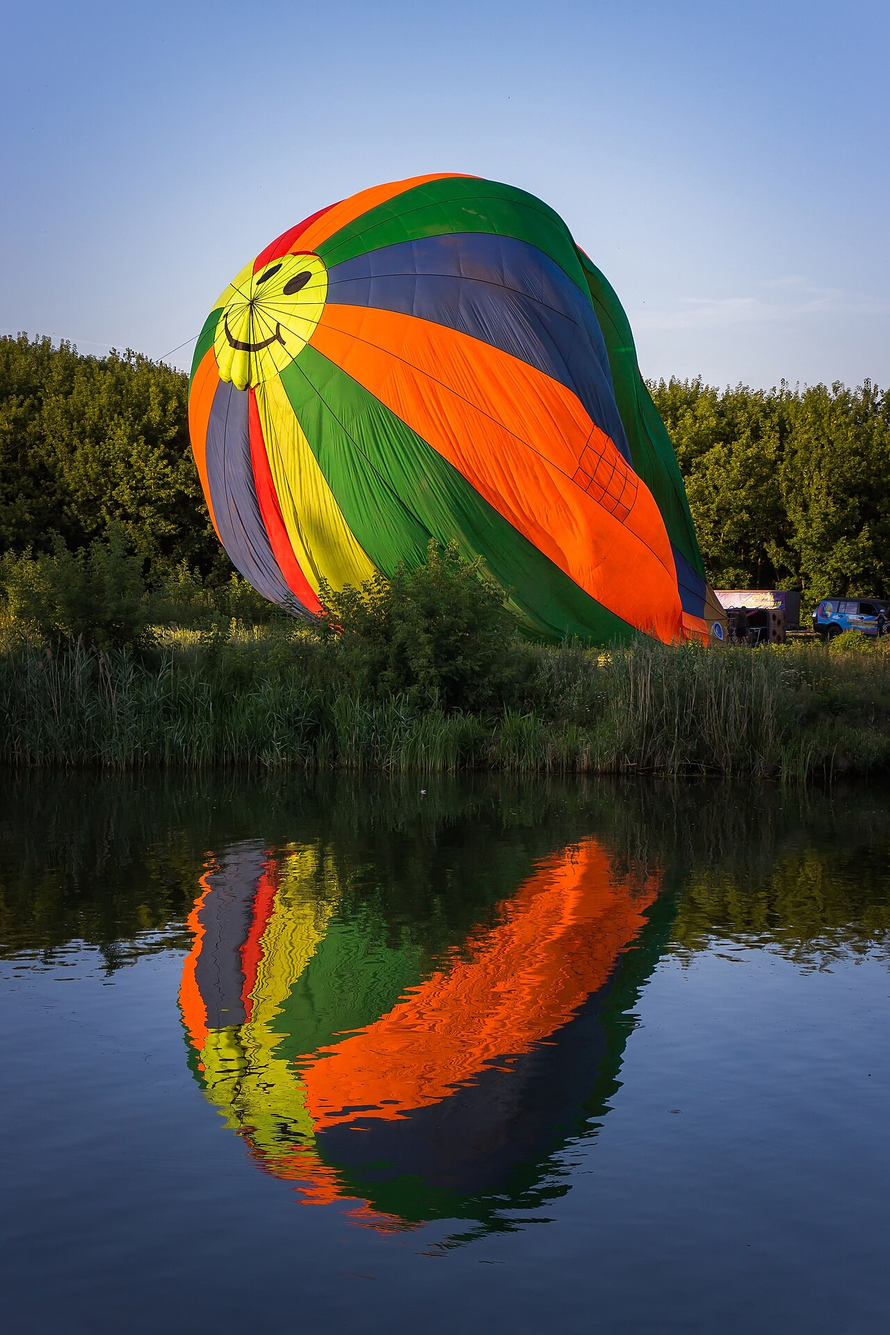balloon: (185, 166, 725, 649)
